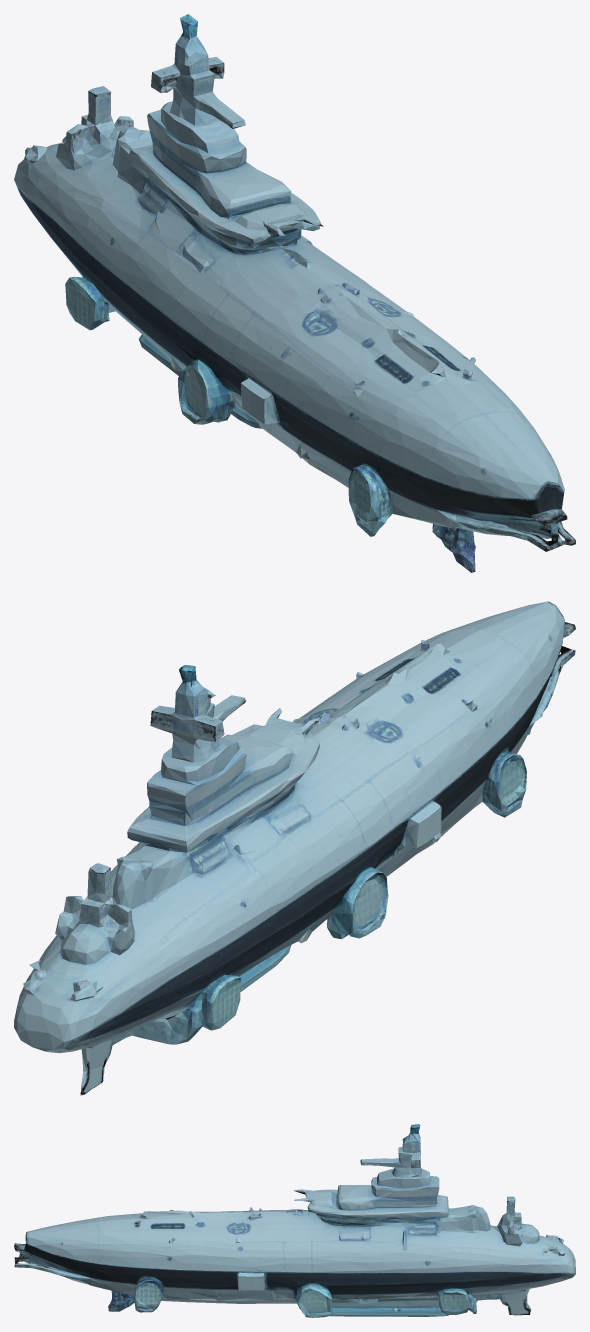
File: Solar Empress Liner.glb
The picture shows the model from 3 angles, top to bottom: view 1: azimuth 30°, elevation 25°; view 2: azimuth 150°, elevation 25°; view 3: azimuth 270°, elevation 25°; orthographic projection. The views are drawn at different scales.
Parts seen in each view (by area): view 1: world; view 2: world; view 3: world.
Part boxes in pixels (x1=…): world: x1=14, y1=14, x2=575, y2=572; world: x1=14, y1=601, x2=575, y2=1095; world: x1=14, y1=1124, x2=575, y2=1317.
Bounding box in the file's own units: 0.2075 × 0.3751 × 1.
1 material, 1 textured.
